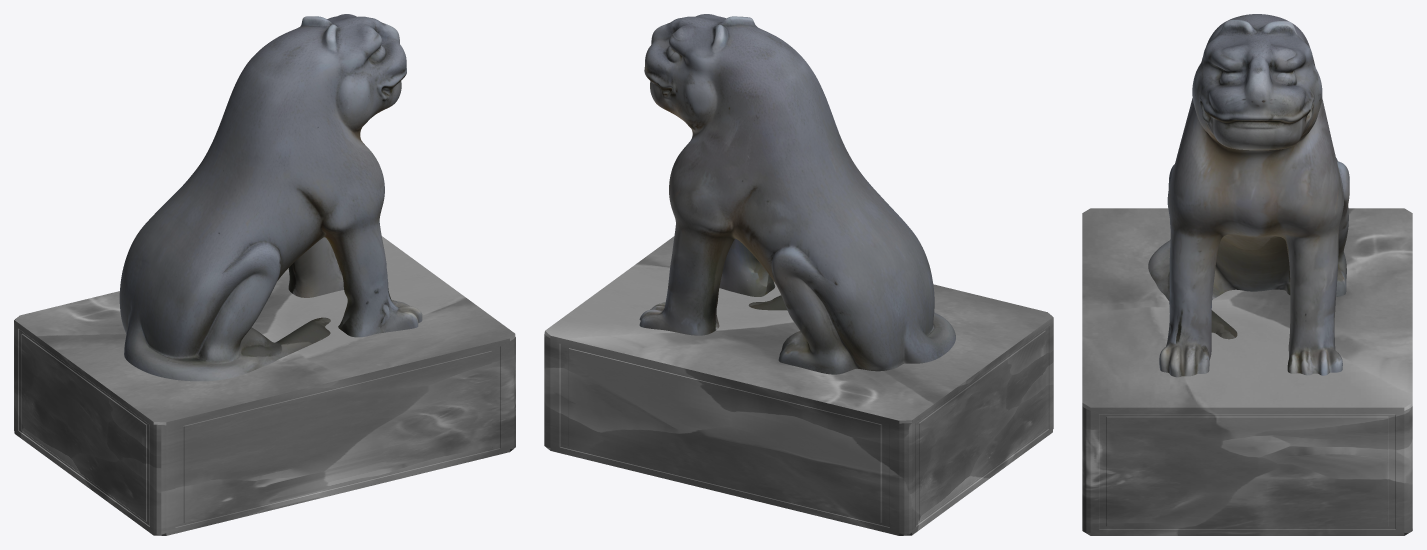
Rendered from 石像生.fbx.
3 renders of one model, left to right at view 1: azimuth 30°, elevation 25°; view 2: azimuth 150°, elevation 25°; view 3: azimuth 270°, elevation 25°, orthographic. The views are drawn at different scales.
Parts seen in each view (by area): view 1: 基座, 虎头; view 2: 基座, 虎头; view 3: 基座, 虎头.
Part boxes in pixels (box(x1,y1,x2,y2)): 基座: box(14, 236, 515, 535); 虎头: box(119, 14, 422, 381); 基座: box(544, 236, 1053, 535); 虎头: box(639, 14, 955, 374); 基座: box(1082, 208, 1412, 535); 虎头: box(1148, 14, 1349, 377).
Bounding box in the file's own units: 129 × 136 × 90.12.
Materials: 2 (2 with a texture image).
